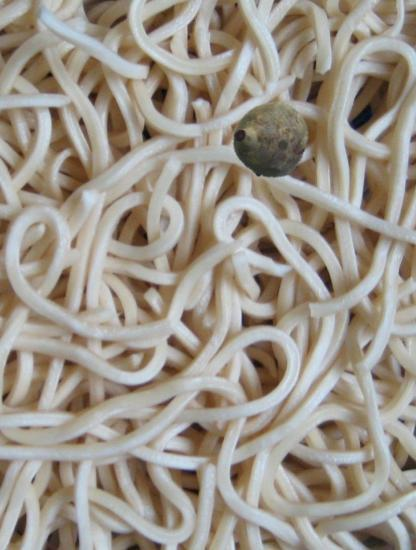Beetroot: (218, 93, 310, 185)
